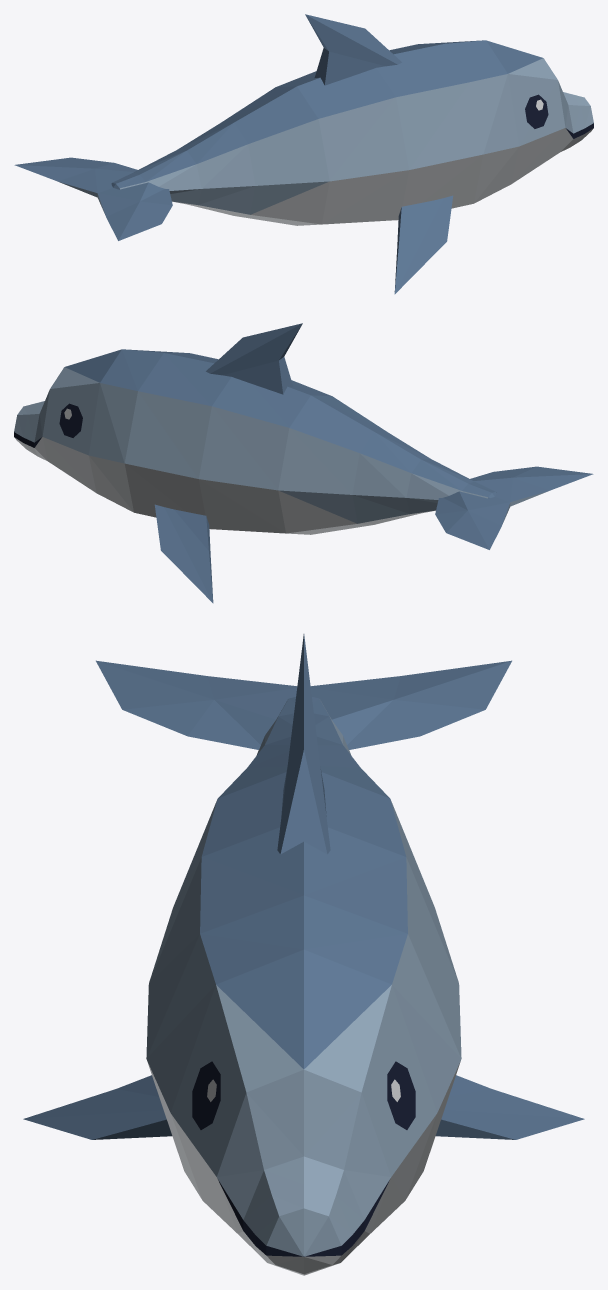
The model's file is dolphin.glb.
3 renders of one model, top to bottom at view 1: azimuth 30°, elevation 25°; view 2: azimuth 150°, elevation 25°; view 3: azimuth 270°, elevation 25°, orthographic. The views are drawn at different scales.
Parts seen in each view (by area): view 1: dolphin; view 2: dolphin; view 3: dolphin.
Boxes of the visible parts, left/top/right/bottom form: dolphin: left=14, top=14, right=593, bottom=294; dolphin: left=14, top=323, right=593, bottom=603; dolphin: left=23, top=634, right=584, bottom=1275.
Size of the model in its own units: 1 by 0.426 by 0.464.
